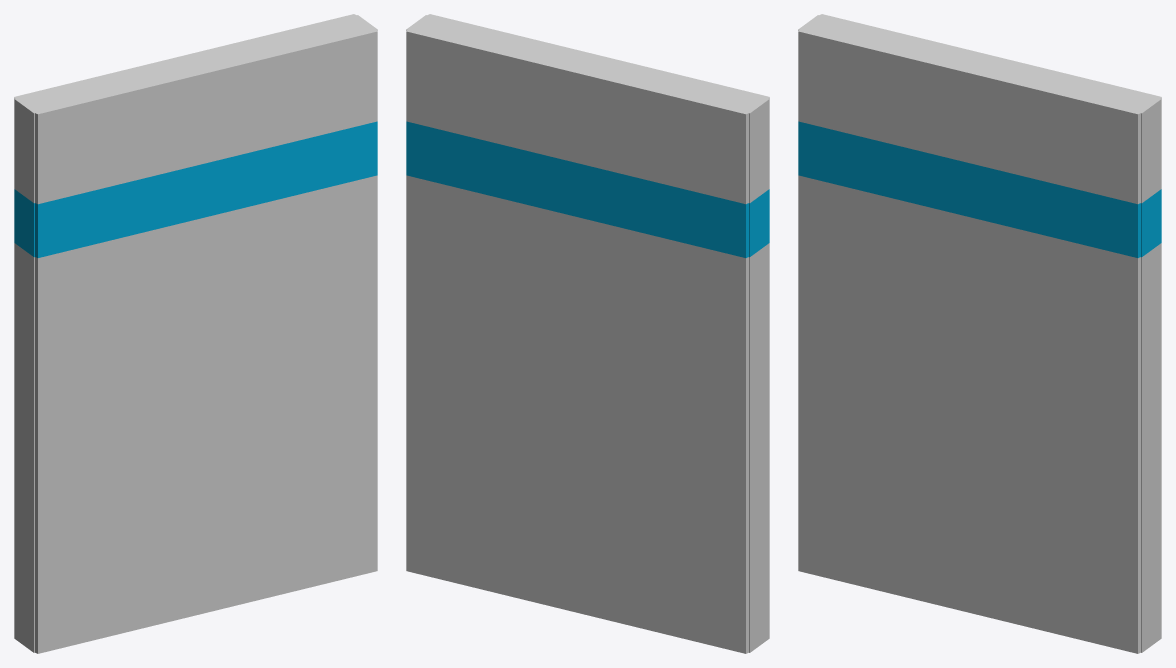
File: K2_wall_113.fbx
3 views of the same model, side by side, from view 1: azimuth 30°, elevation 25°; view 2: azimuth 150°, elevation 25°; view 3: azimuth 330°, elevation 25° (orthographic).
Visible parts, largest first — view 1: pCube64; view 2: pCube64; view 3: pCube64.
Part boxes in pixels (<box>): pCube64: <box>14,14,377,653</box>; pCube64: <box>406,14,769,653</box>; pCube64: <box>798,14,1161,653</box>.
Bounding box in the file's own units: 20 × 30 × 2.4.
